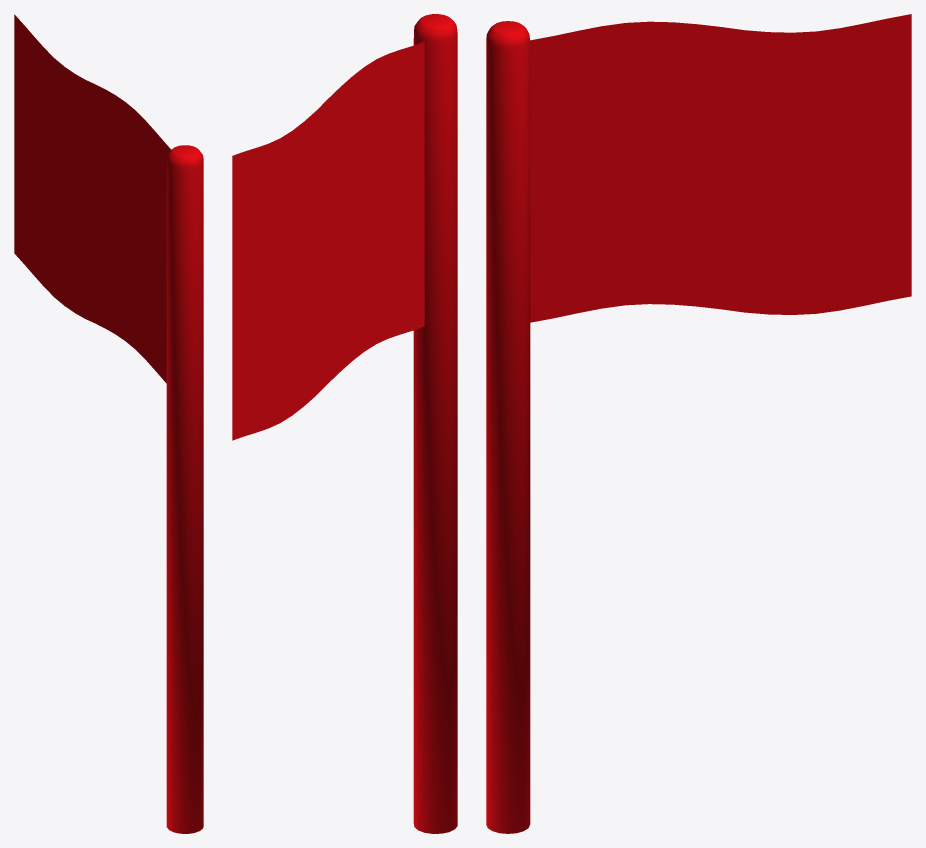
Rendered from Goal.fbx.
3 renders of one model, left to right at view 1: azimuth 30°, elevation 25°; view 2: azimuth 150°, elevation 25°; view 3: azimuth 270°, elevation 25°, orthographic. The views are drawn at different scales.
Parts seen in each view (by area): view 1: Plane, Cylinder; view 2: Plane, Cylinder; view 3: Plane, Cylinder.
Boxes of the visible parts, <box> form: Plane: <box>14,14,171,383</box>; Cylinder: <box>166,145,203,833</box>; Plane: <box>232,41,424,440</box>; Cylinder: <box>413,14,457,833</box>; Plane: <box>530,14,911,322</box>; Cylinder: <box>486,21,530,833</box>.
Size of what is drawn, in the model's own units: 10 by 203 by 96.72.
